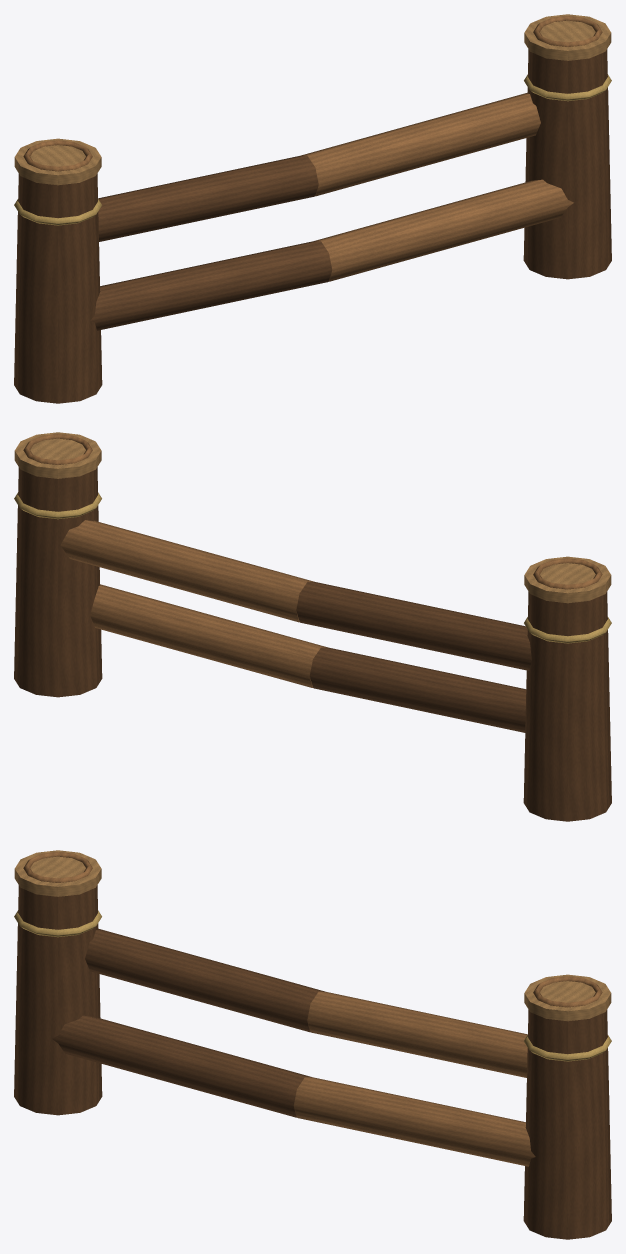
File: fence-1.fbx
3 renders of one model, top to bottom at view 1: azimuth 30°, elevation 25°; view 2: azimuth 150°, elevation 25°; view 3: azimuth 330°, elevation 25°, orthographic.
Visible parts, largest first — view 1: fence-1__Geometry; view 2: fence-1__Geometry; view 3: fence-1__Geometry.
Part boxes in pixels (bbox=[...]): fence-1__Geometry: bbox=[14, 14, 611, 403]; fence-1__Geometry: bbox=[14, 432, 611, 821]; fence-1__Geometry: bbox=[14, 850, 611, 1239].
Size of the model in its own units: 2.76 by 1.04 by 0.36.
